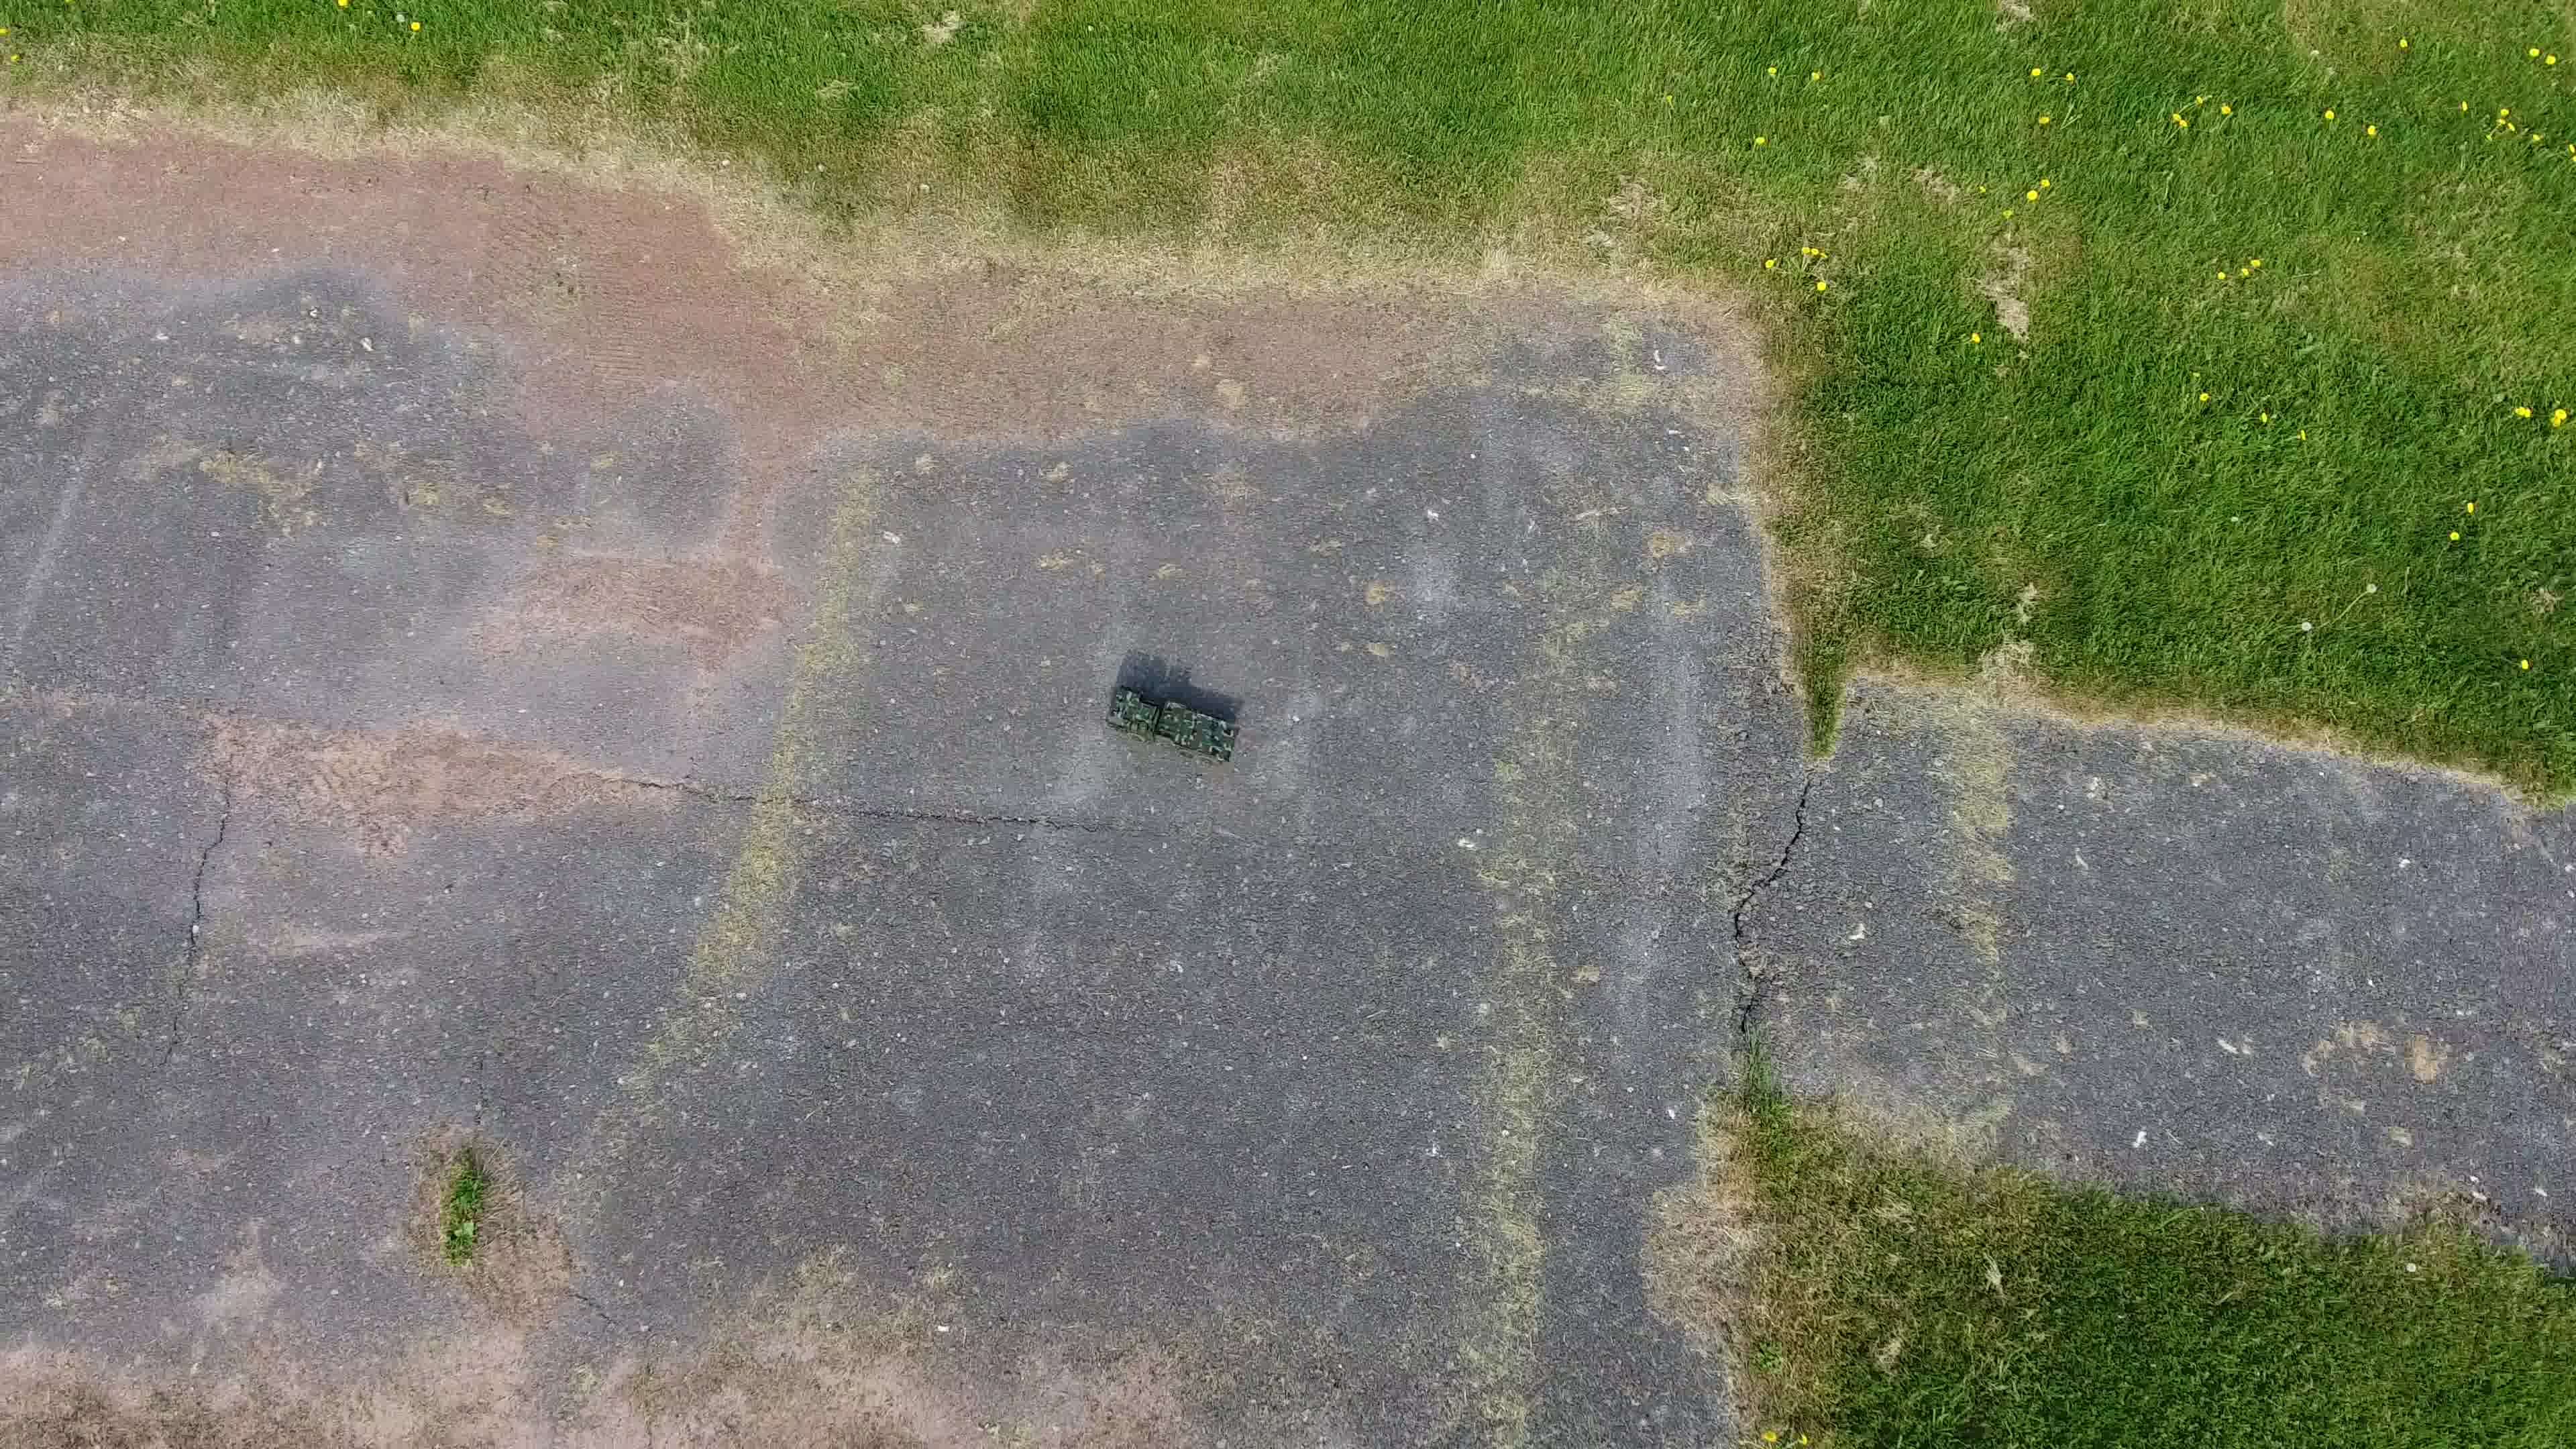transporter9_camo: (1104, 683, 1244, 768)
